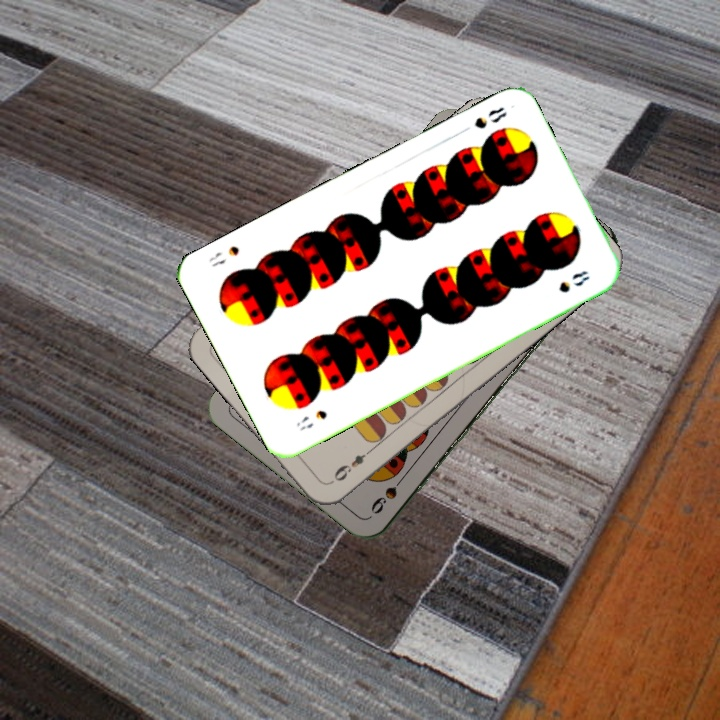E9: (329, 444, 376, 484)
S8: (470, 103, 510, 132), (292, 406, 330, 433)
S9: (368, 468, 410, 517)
